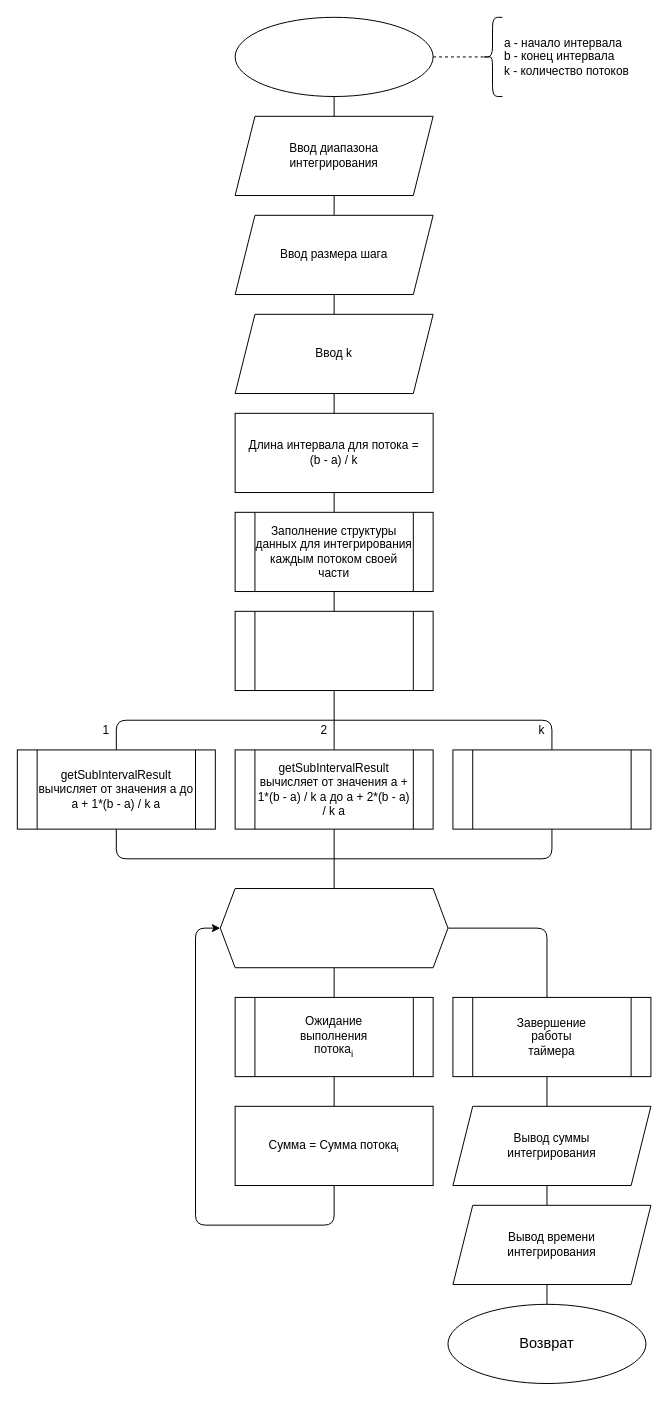
Image size: 668x1401. Some labels were removed from this diagram. The centre of each missing label's shape, as x and y in pixels:
"getSubIntervalResult вычисляет от значения а + (k-1)*(b - a) / k a до b" belongs at [551,789].
"i = 0; i < k" belongs at [333,928].
"Запуск работы таймера" belongs at [333,650].
"Ньютона-Котеса третьего порядка" belongs at [333,56].
